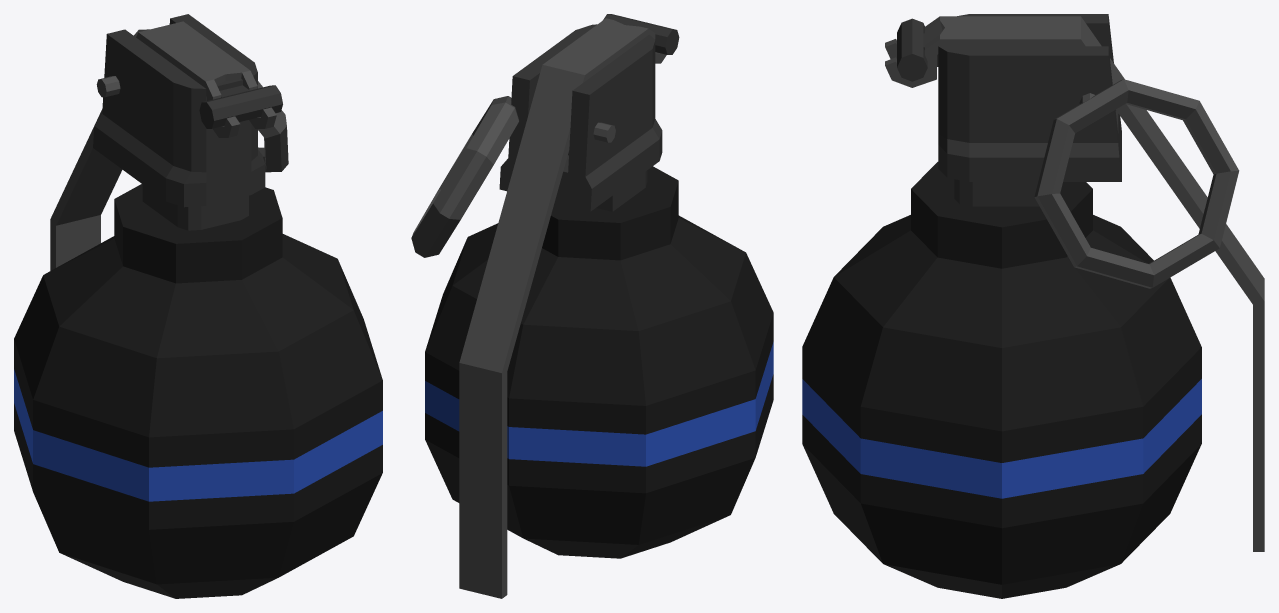
Rendered from scene_9q71zNxDBi.glb.
3 renders of one model, left to right at view 1: azimuth 30°, elevation 25°; view 2: azimuth 150°, elevation 25°; view 3: azimuth 270°, elevation 25°, orthographic. The views are drawn at different scales.
Parts seen in each view (by area): view 1: Frag_West; view 2: Frag_West; view 3: Frag_West.
Boxes of the visible parts, x1=… form: Frag_West: x1=14, y1=14, x2=382, y2=598; Frag_West: x1=411, y1=14, x2=773, y2=598; Frag_West: x1=802, y1=14, x2=1264, y2=598.
Size of the model in its own units: 0.0672 by 0.0988 by 0.0778.
